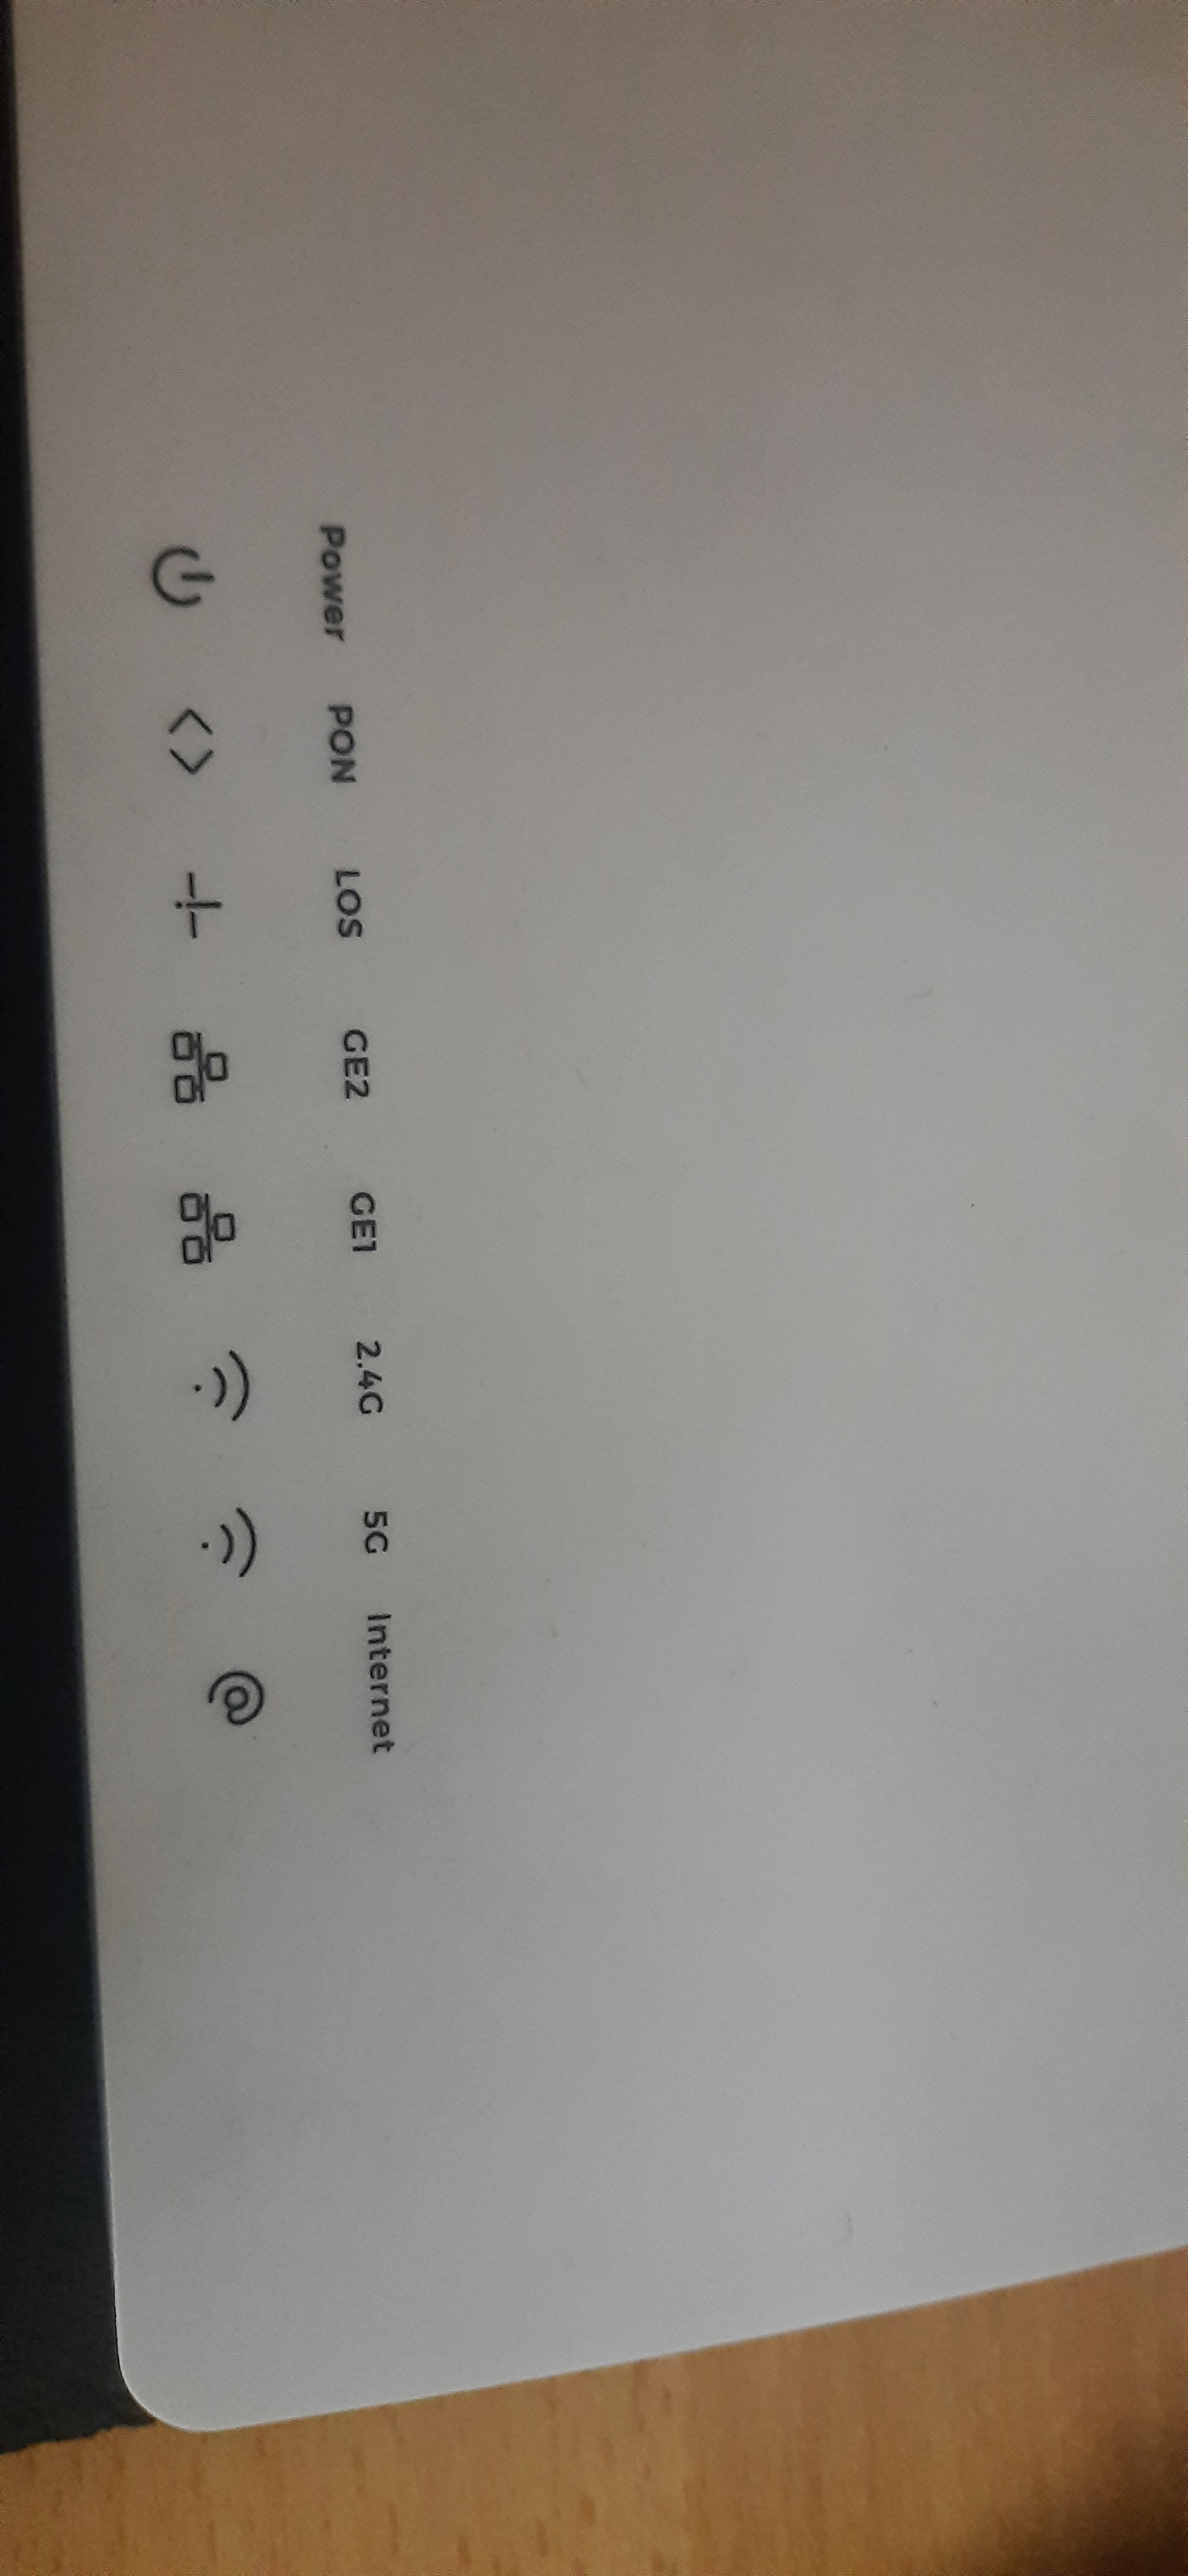WhiteWireIssue: (44, 421, 460, 1850)
